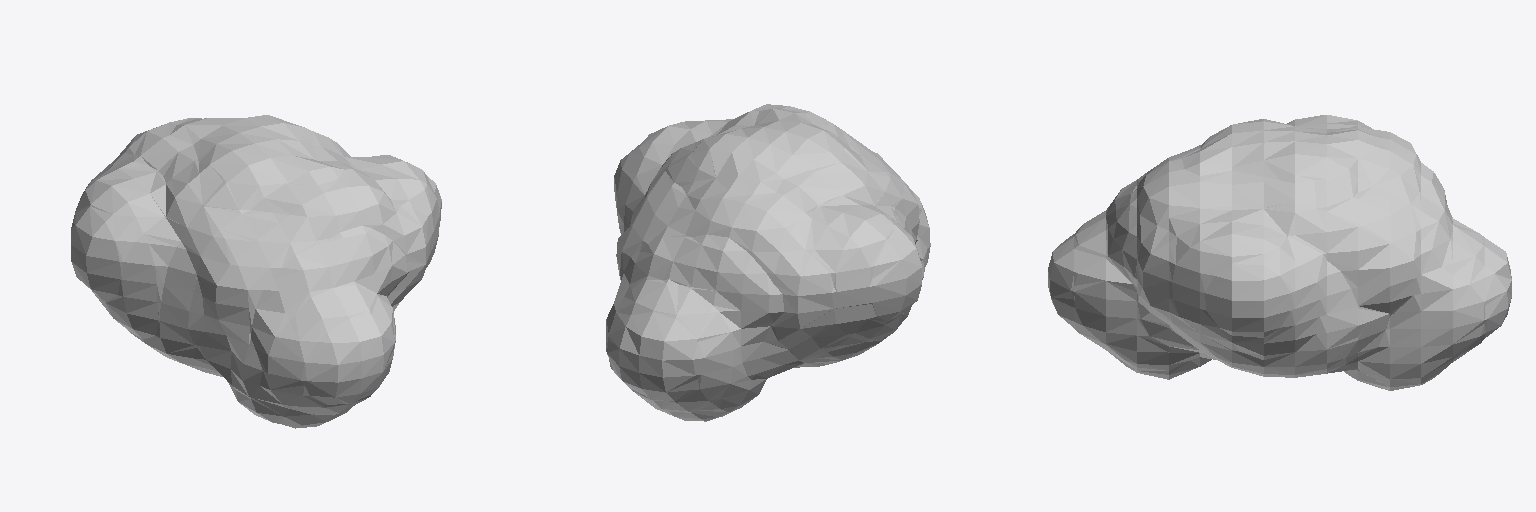
File: 1x54_1_cms.obj
3 renders of one model, left to right at view 1: azimuth 30°, elevation 25°; view 2: azimuth 150°, elevation 25°; view 3: azimuth 270°, elevation 25°, orthographic.
Size of the model in its own units: 103 by 73.47 by 128.